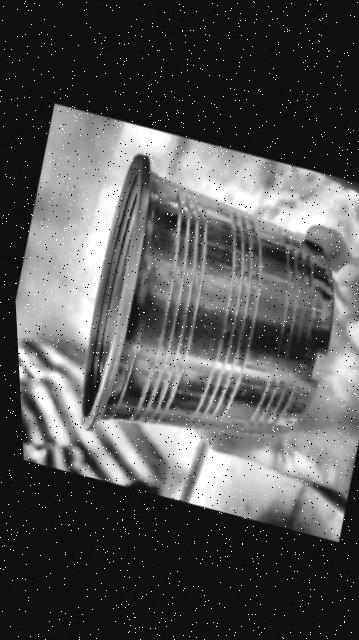pot: (79, 154, 332, 434)
